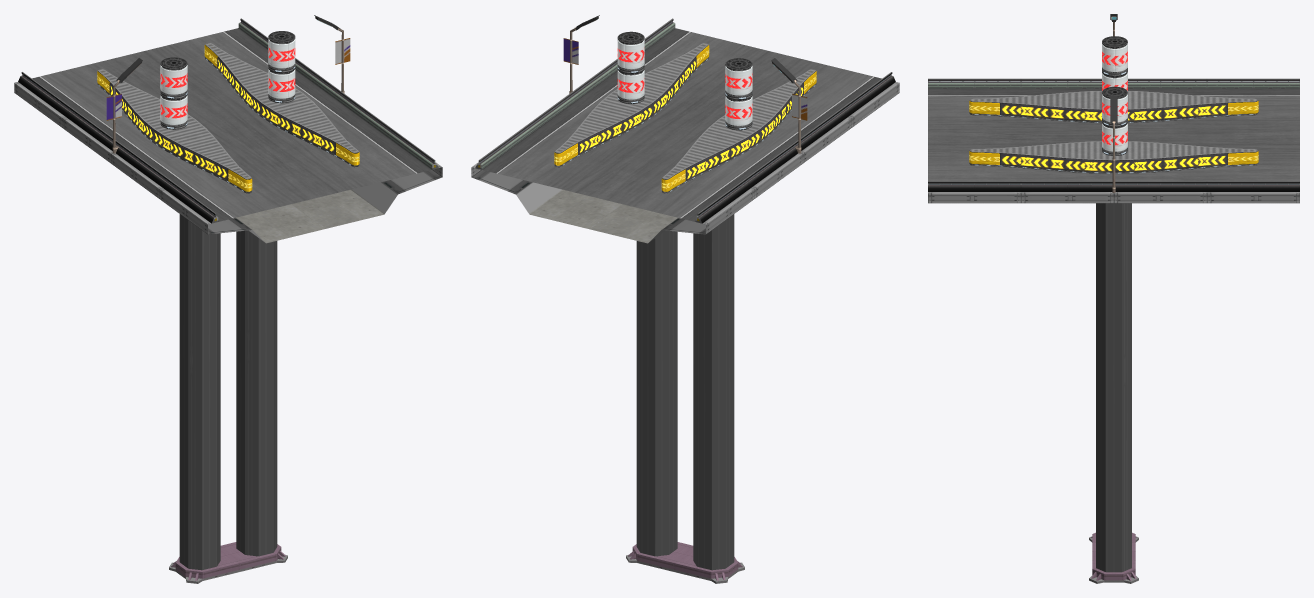
Rendered from T1 - Ground Obstacle 2 UP.fbx.
3 views of the same model, side by side, from view 1: azimuth 30°, elevation 25°; view 2: azimuth 150°, elevation 25°; view 3: azimuth 270°, elevation 25° (orthographic). The views are drawn at different scales.
Visible parts, largest first — view 1: support_pylon, standard_road, standard_bridge, barrier, barrier_1, wall_straight_elevated, barrier_elevated2, support_ground, pro_streetlight_banner_1, cover_3, cover, cover_1 (+2 smaller); view 2: support_pylon, standard_road, standard_bridge, barrier, barrier_1, wall_straight_elevated, barrier_elevated2, support_ground, pro_streetlight_banner_1, cover, cover_3, cover_1 (+2 smaller); view 3: standard_road, support_pylon, barrier, barrier_1, barrier_elevated2, standard_bridge, wall_straight_elevated, support_ground, cover_3, cover, cover_1.
Part boxes in pixels (x1=…): support_pylon: x1=179, y1=214, x2=277, y2=570; standard_road: x1=32, y1=28, x2=431, y2=221; standard_bridge: x1=14, y1=82, x2=442, y2=243; barrier: x1=204, y1=43, x2=359, y2=167; barrier_1: x1=97, y1=69, x2=252, y2=193; wall_straight_elevated: x1=18, y1=22, x2=435, y2=223; barrier_elevated2: x1=22, y1=18, x2=438, y2=223; support_ground: x1=169, y1=542, x2=287, y2=583; pro_streetlight_banner_1: x1=106, y1=58, x2=142, y2=153; cover_3: x1=160, y1=65, x2=187, y2=94; cover: x1=268, y1=69, x2=295, y2=98; cover_1: x1=268, y1=39, x2=295, y2=68; support_pylon: x1=636, y1=214, x2=734, y2=570; standard_road: x1=482, y1=28, x2=881, y2=221; standard_bridge: x1=471, y1=82, x2=899, y2=243; barrier: x1=554, y1=43, x2=709, y2=167; barrier_1: x1=661, y1=69, x2=816, y2=193; wall_straight_elevated: x1=478, y1=18, x2=895, y2=223; barrier_elevated2: x1=475, y1=18, x2=891, y2=223; support_ground: x1=626, y1=542, x2=744, y2=583; pro_streetlight_banner_1: x1=771, y1=58, x2=807, y2=153; cover: x1=617, y1=70, x2=644, y2=99; cover_3: x1=725, y1=66, x2=752, y2=95; cover_1: x1=617, y1=39, x2=644, y2=69; standard_road: x1=928, y1=88, x2=1299, y2=183; support_pylon: x1=1096, y1=203, x2=1131, y2=572; barrier: x1=969, y1=141, x2=1258, y2=173; barrier_1: x1=969, y1=91, x2=1258, y2=123; barrier_elevated2: x1=928, y1=79, x2=1299, y2=184; standard_bridge: x1=928, y1=192, x2=1299, y2=203; wall_straight_elevated: x1=928, y1=78, x2=1299, y2=191; support_ground: x1=1089, y1=532, x2=1138, y2=583; cover_3: x1=1102, y1=43, x2=1127, y2=71; cover: x1=1102, y1=123, x2=1127, y2=151; cover_1: x1=1102, y1=94, x2=1127, y2=122.
Bounding box in the file's own units: 4648 × 9591 × 6400.
